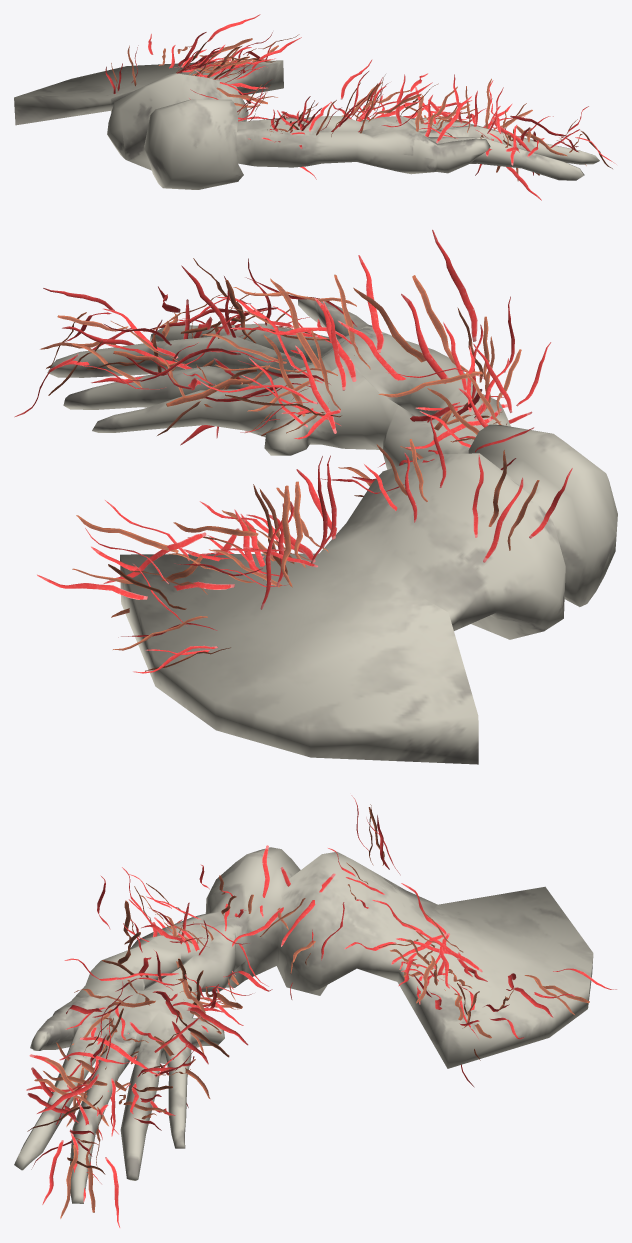
Rendered from bowheadWhaleSkele01c.fbx.
3 views of the same model, one above another, from view 1: azimuth 30°, elevation 25°; view 2: azimuth 150°, elevation 25°; view 3: azimuth 270°, elevation 25° (orthographic). The views are drawn at different scales.
Parts seen in each view (by area): view 1: bowheadWhaleSkel_pose.013; view 2: bowheadWhaleSkel_pose.013; view 3: bowheadWhaleSkel_pose.013.
Part boxes in pixels (x1,y1,x2,y2): bowheadWhaleSkel_pose.013: (14, 14, 616, 200); bowheadWhaleSkel_pose.013: (14, 229, 617, 764); bowheadWhaleSkel_pose.013: (14, 795, 616, 1227).
Bounding box in the file's own units: 635 × 224 × 588.
